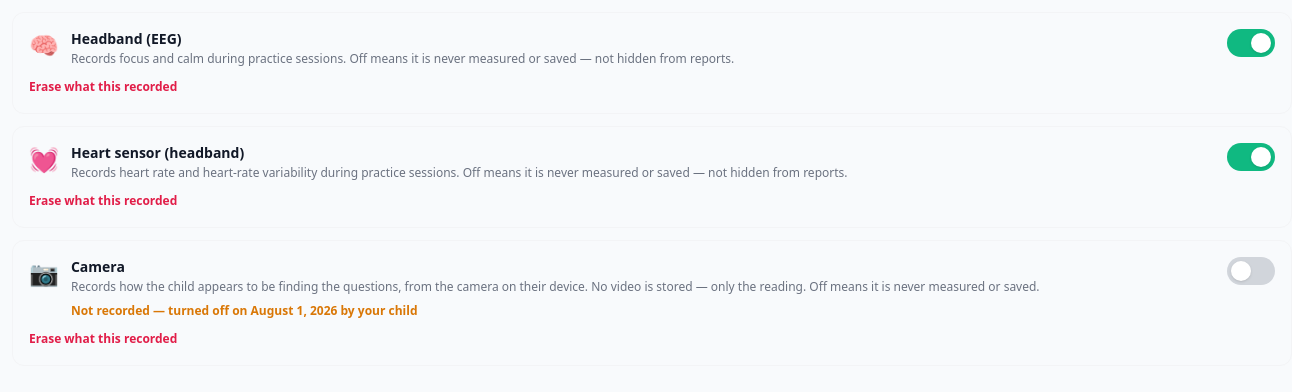
Test: the parent can switch on › reloads on a 409 rather than retrying
What coordinates should you click on to do the following:
click the switch named "Camera"
I would click on:
 (1251, 271)
Its box is [1227,257,1275,285].
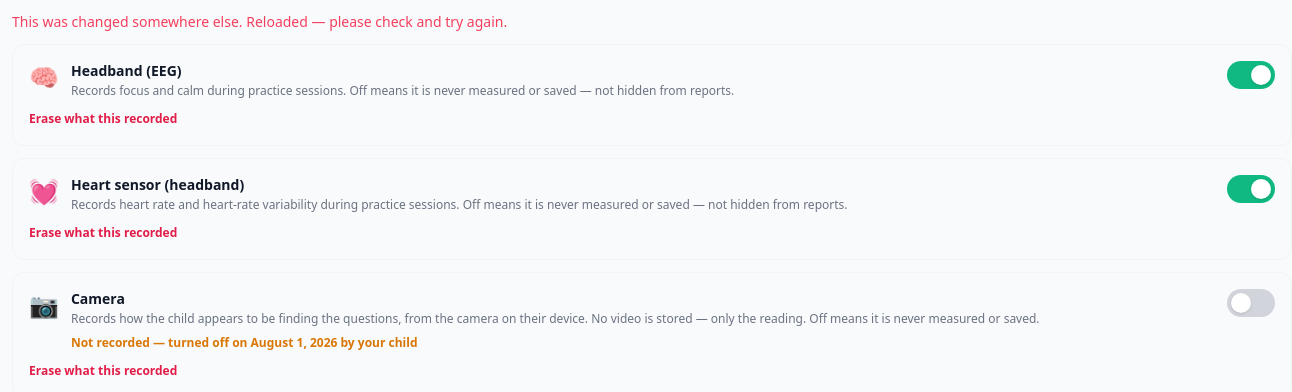
Check: the text "changed somewhere else" is shown, box [12,12,507,31]
